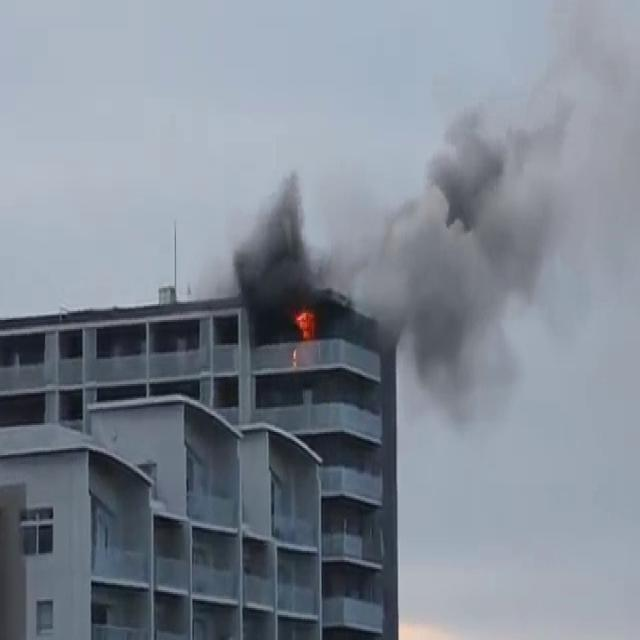Fire: (288, 301, 321, 348)
Smoke: (356, 10, 640, 418), (222, 150, 338, 342)
